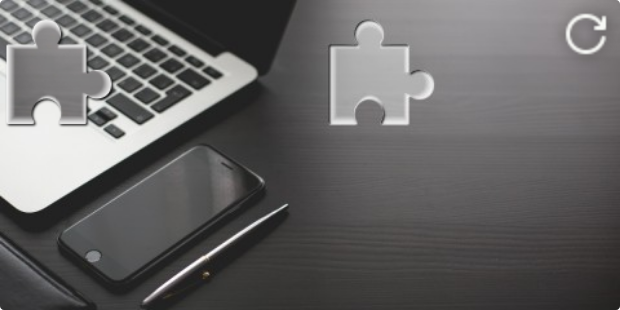target: (329, 20, 434, 125)
